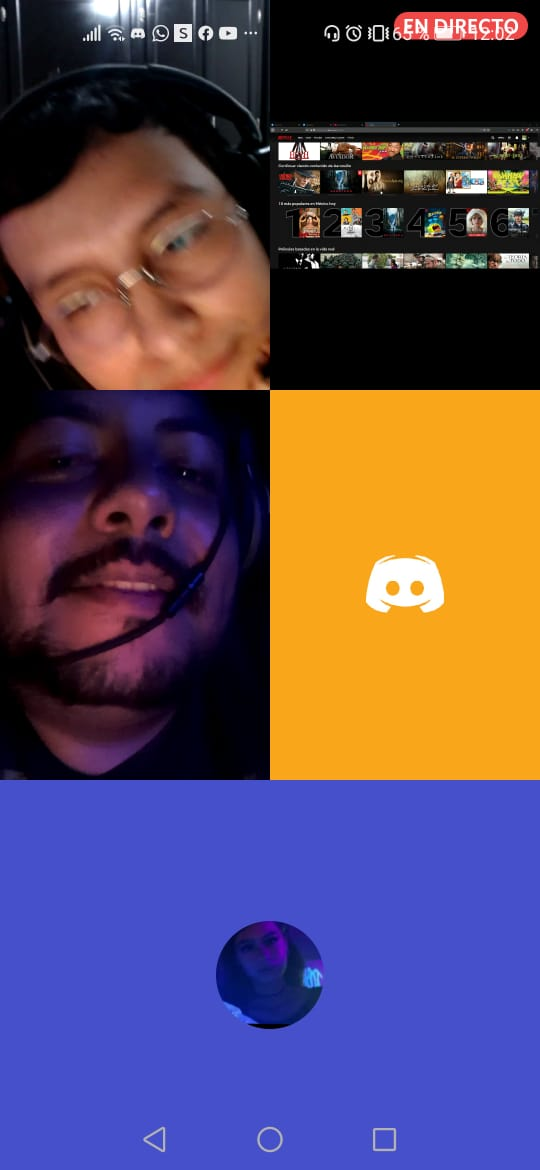Yoshi: (3, 400, 272, 752)
